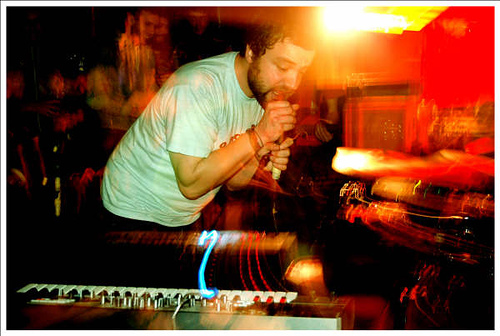without_mask: (240, 22, 319, 115)
